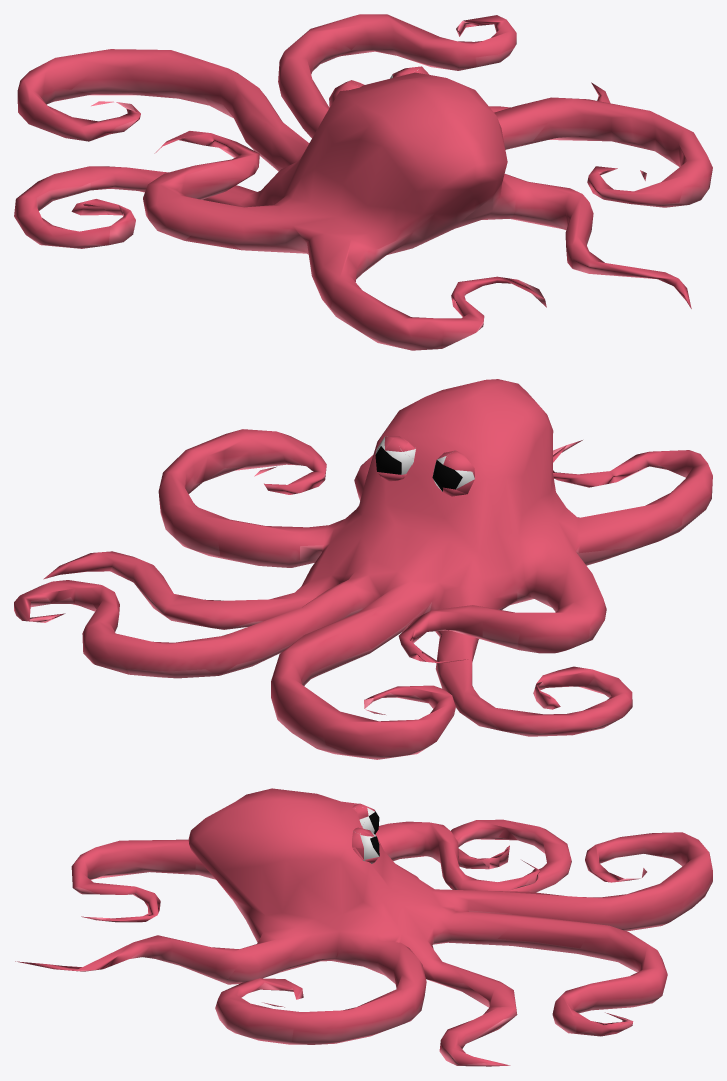
File: octopus.glb
3 views of the same model, one above another, from view 1: azimuth 30°, elevation 25°; view 2: azimuth 150°, elevation 25°; view 3: azimuth 270°, elevation 25° (orthographic). The views are drawn at different scales.
Visible parts, largest first — view 1: Octopus; view 2: Octopus; view 3: Octopus.
Part boxes in pixels (x1,y1,x2,y2): Octopus: [14, 14, 712, 350]; Octopus: [14, 379, 712, 759]; Octopus: [15, 788, 712, 1066].
Size of the model in its own units: 3.58 by 1.06 by 4.38.
3 materials, 1 textured.
